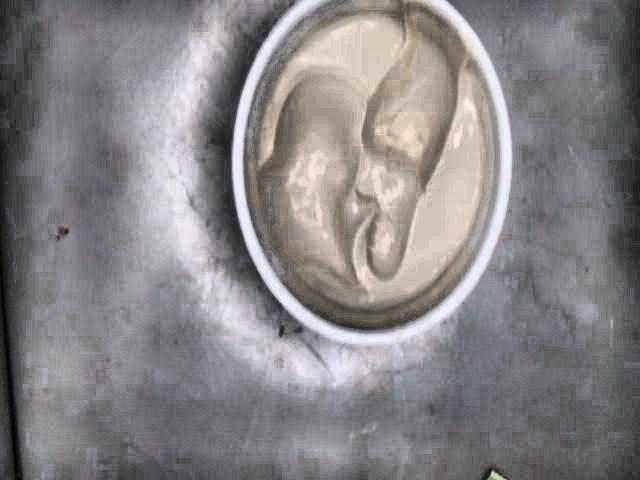Almennt: (227, 0, 510, 343)
